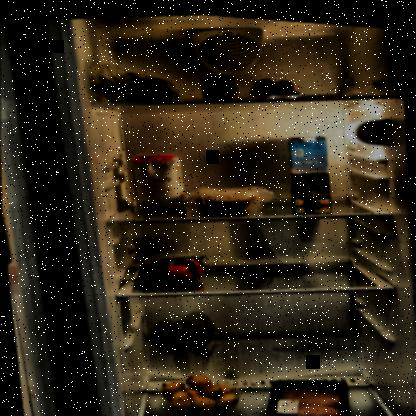chicken: (273, 374, 346, 415)
corn: (197, 66, 241, 101)
eggs: (248, 68, 299, 97)
milk: (285, 127, 333, 211)
potato: (158, 365, 240, 415)
spinach: (84, 60, 183, 108)
tomato: (138, 245, 209, 289)
